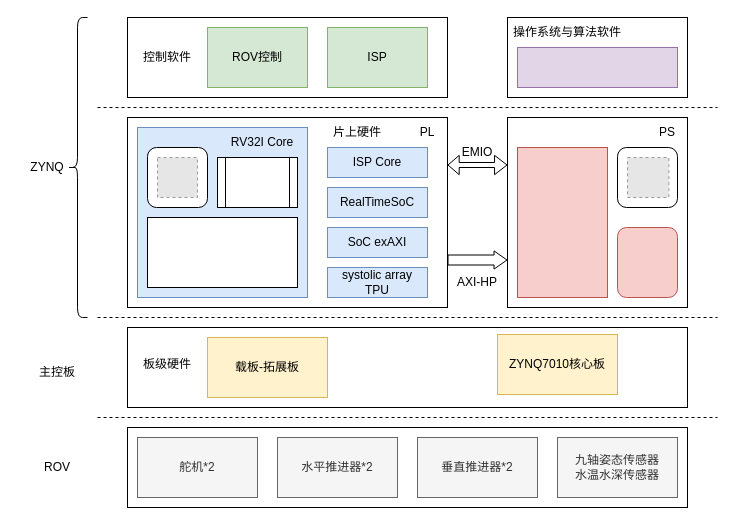
Some shapes in this 736 by 525 pixel diagram are drawn without their labels. Grey dashed boxes stand in for pictures. Each missing label, with the centre of its shape:
Bus Control Unit: point (257, 182)
DDR3 512MB: point (647, 262)
Embedded Linux PYNQ: point (597, 67)
GPIO UART AXI-GP AXI-HP FPGA Manager DDR MIG HDMI USB Ethernet: point (562, 222)
TCM SysTick PLIC: point (222, 252)
